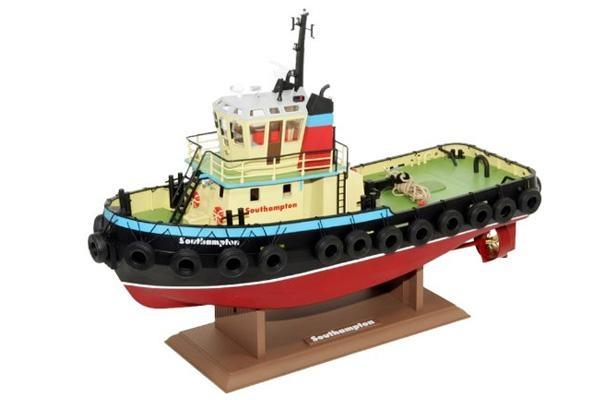Boat: (87, 1, 548, 311)
